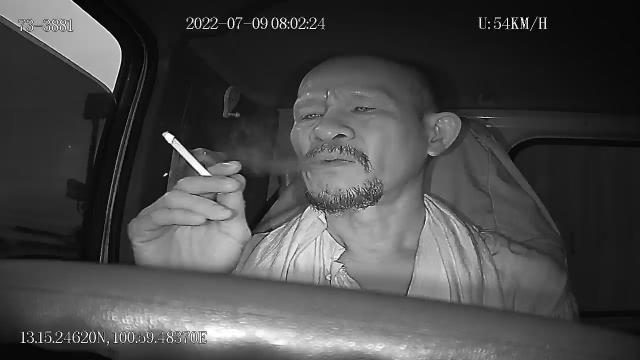SafeDriving: (344, 94, 387, 120), (294, 102, 328, 127)
Smoking: (162, 130, 212, 176)
